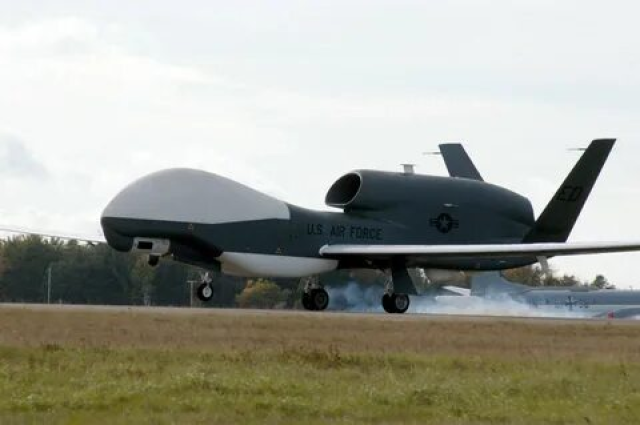military drone: (0, 138, 640, 313)
